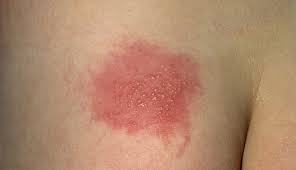Herpes Virus: (101, 50, 191, 137)
